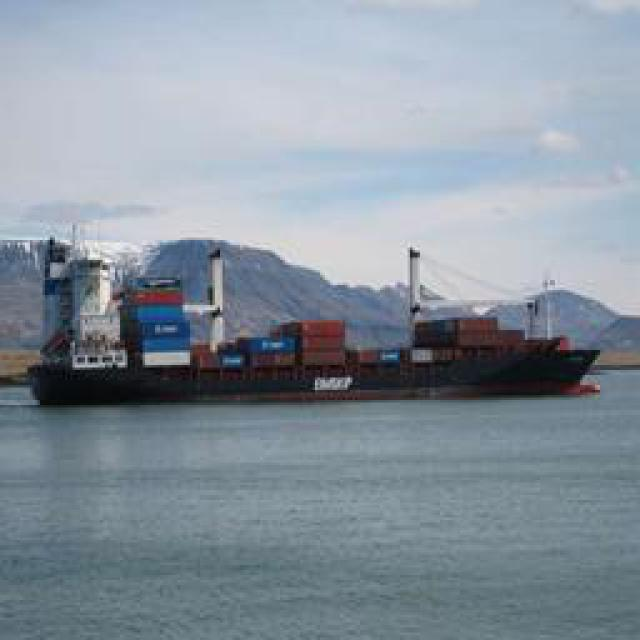Ship: (18, 236, 616, 411)
